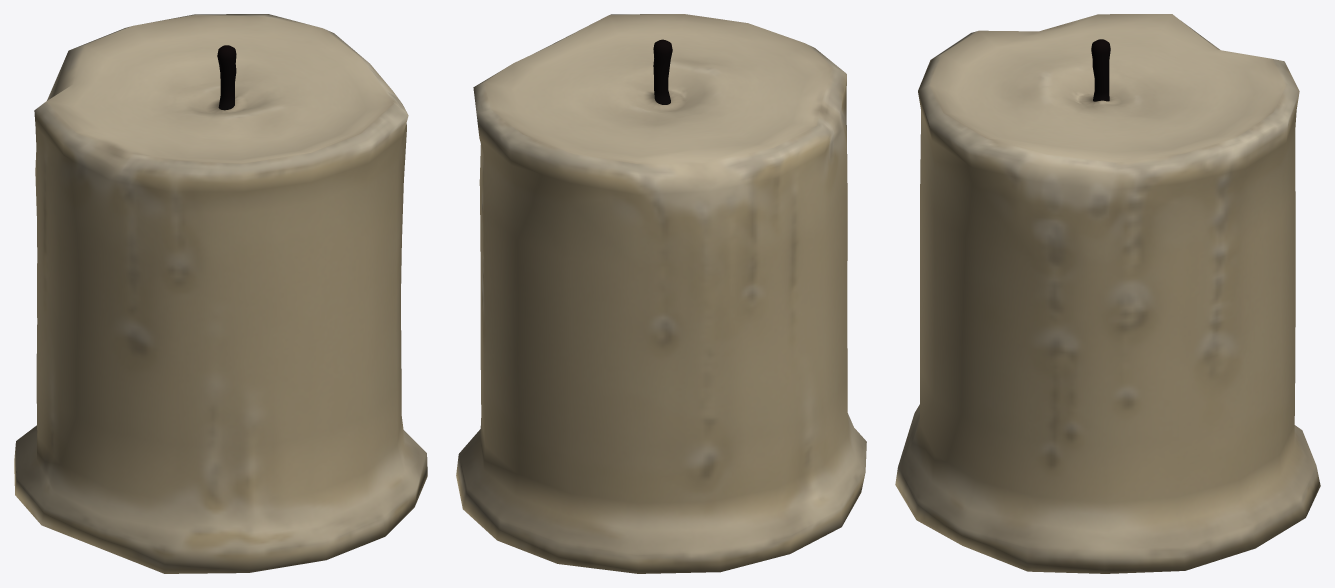
The model's file is candle_02.fbx.
3 renders of one model, left to right at view 1: azimuth 30°, elevation 25°; view 2: azimuth 150°, elevation 25°; view 3: azimuth 270°, elevation 25°, orthographic.
Parts seen in each view (by area): view 1: Candle_002; view 2: Candle_002; view 3: Candle_002.
Boxes of the visible parts, left/top/right/bottom form: Candle_002: left=14, top=14, right=427, bottom=573; Candle_002: left=456, top=14, right=866, bottom=573; Candle_002: left=895, top=14, right=1320, bottom=573.
Size of the model in its own units: 48.35 by 57.76 by 49.4.
